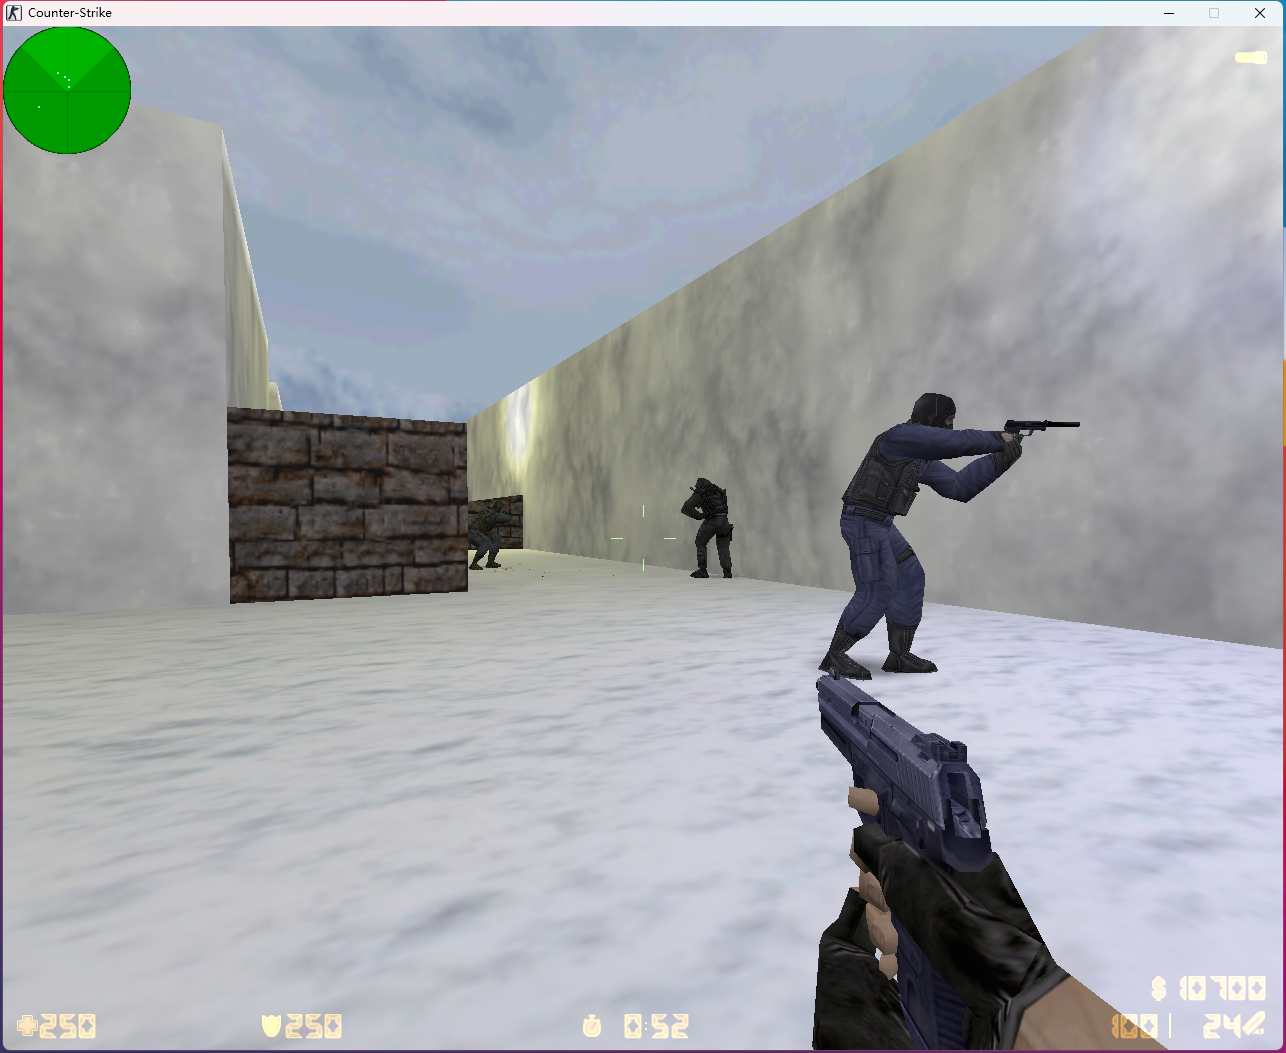C: (817, 389, 1021, 680), (679, 475, 742, 583), (460, 501, 517, 570)
